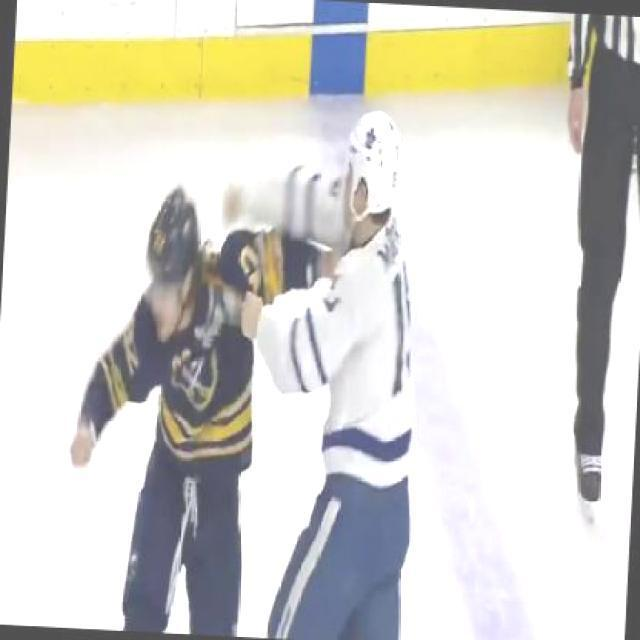fight: (54, 91, 434, 638)
